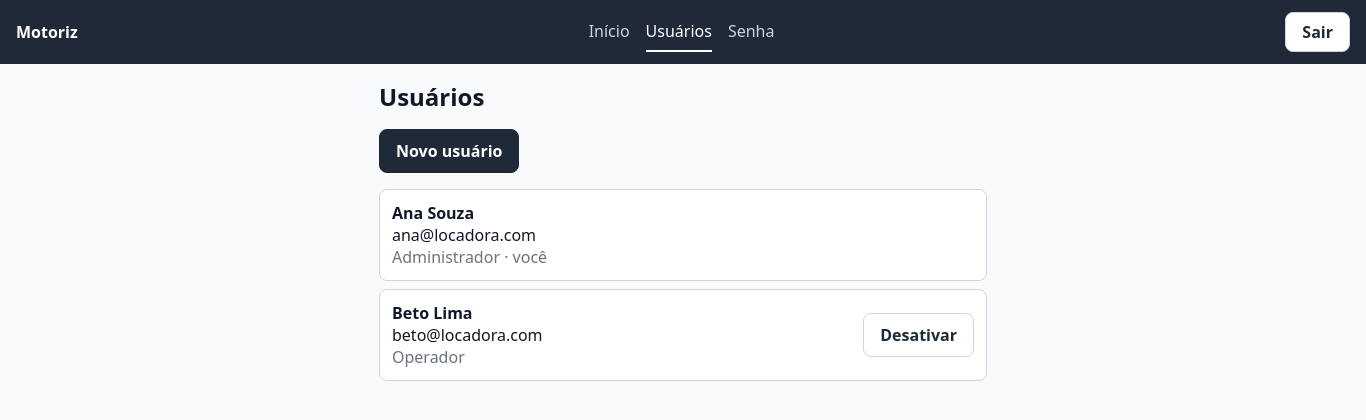
Test: Usuarios › erro da API ao desativar aparece na tela
The width and height of the screenshot is (1366, 420).
Click the button "Desativar": x=919, y=335 [863,313,974,357]
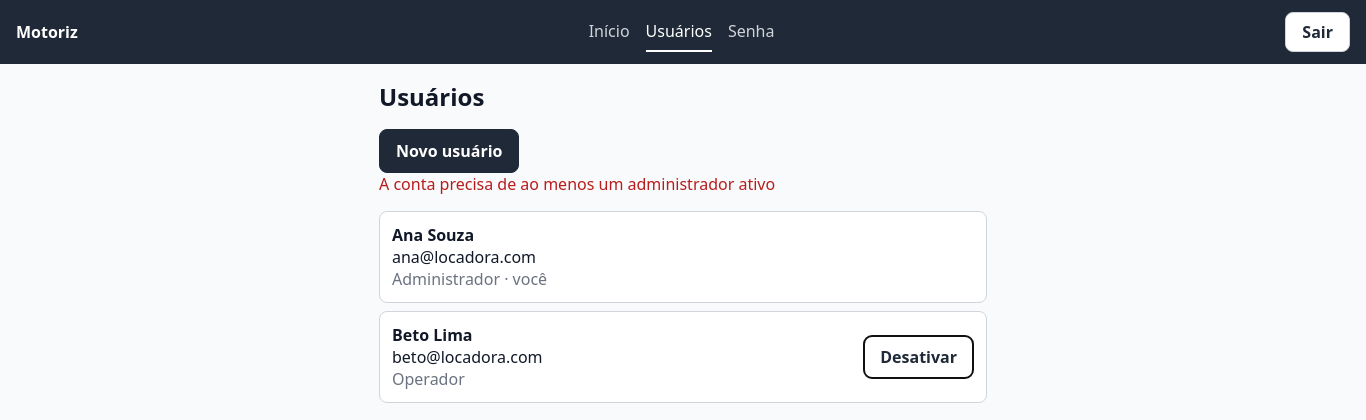
Expected: the text "ana@locadora.com" is shown, [392,246,547,268]
Expected: the text "A conta precisa de ao menos um administrador ativo" is shown, [379,173,775,195]
